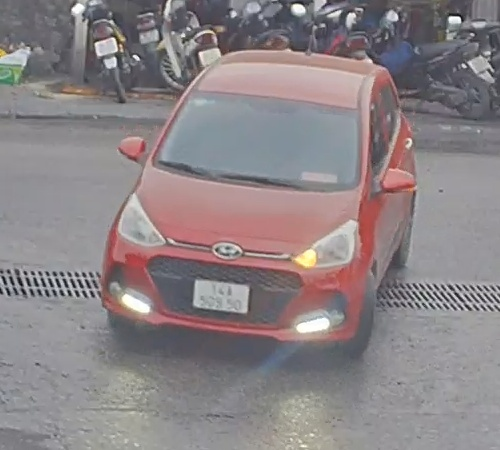vehicle plate: (192, 276, 252, 316)
